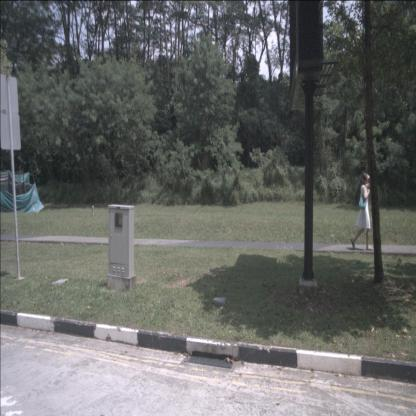human-pedestrian-adult: (351, 172, 374, 251)
